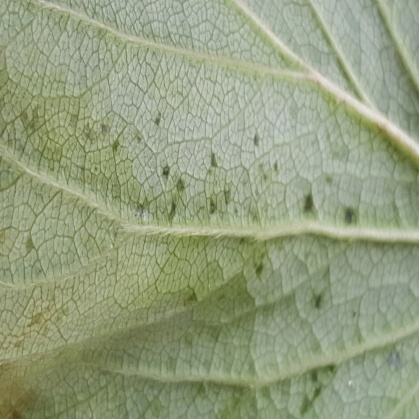Angular_LS: (53, 1, 418, 413)
